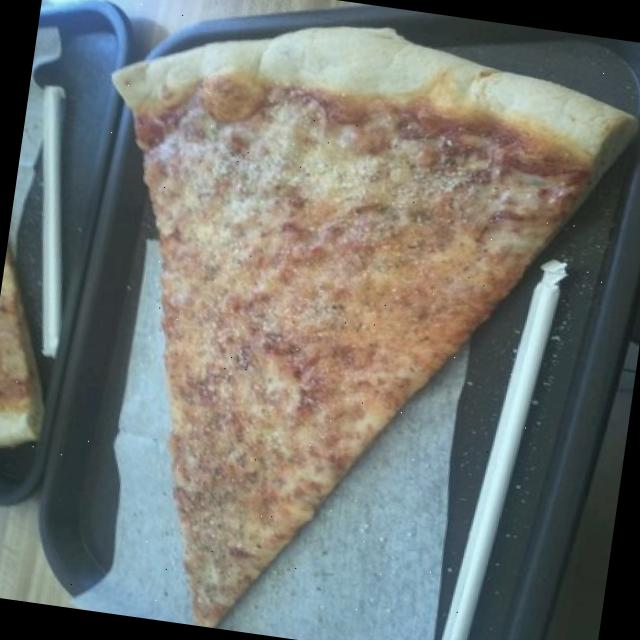pizza: (114, 26, 638, 628), (0, 251, 45, 447)
